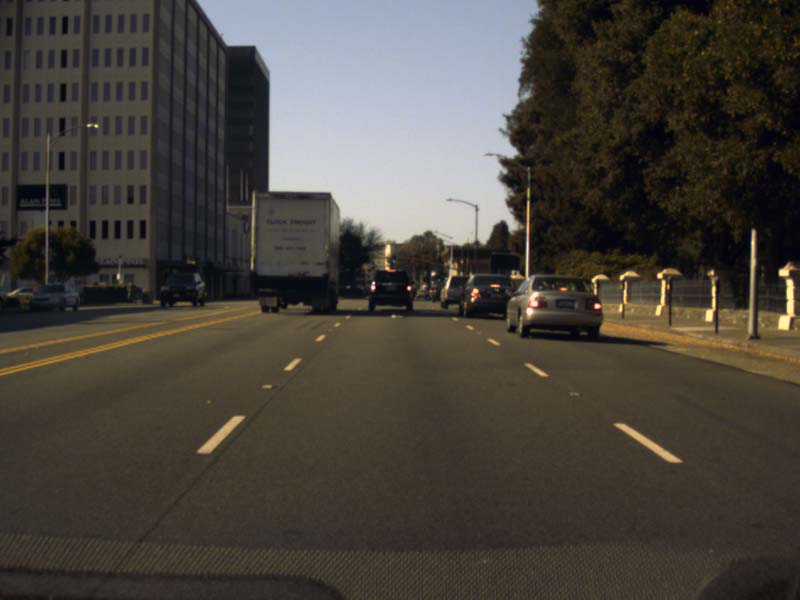Green: (392, 255, 395, 263)
